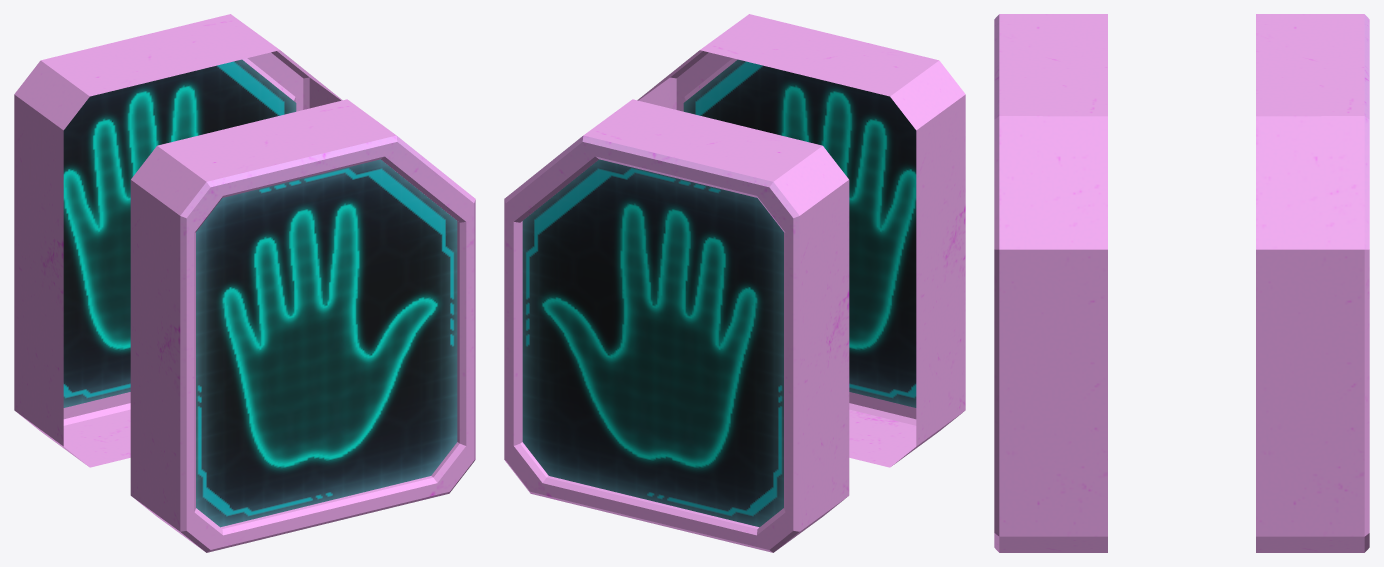
Rendered from Switch_01_SM_low.fbx.
3 views of the same model, side by side, from view 1: azimuth 30°, elevation 25°; view 2: azimuth 150°, elevation 25°; view 3: azimuth 270°, elevation 25° (orthographic). The views are drawn at different scales.
Visible parts, largest first — view 1: Base; view 2: Base; view 3: Base.
Boxes of the visible parts, x1=… form: Base: x1=14, y1=14, x2=475, y2=552; Base: x1=504, y1=14, x2=965, y2=552; Base: x1=994, y1=14, x2=1369, y2=552.
Size of the model in its own units: 50 by 60 by 50.
